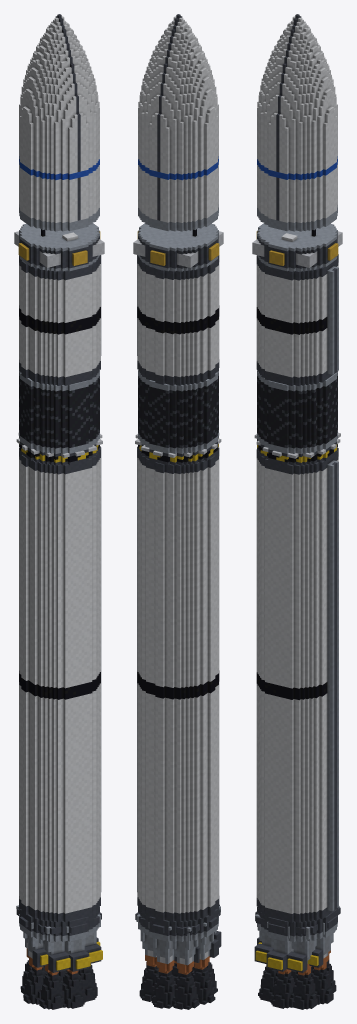
File: andorinha_assembled.glb
The picture shows the model from 3 angles, left to right: view 1: azimuth 30°, elevation 25°; view 2: azimuth 150°, elevation 25°; view 3: azimuth 330°, elevation 25°; orthographic projection.
Visible parts, largest first — view 1: andorinha_assembled; view 2: andorinha_assembled; view 3: andorinha_assembled.
Boxes of the visible parts, <box> form: andorinha_assembled: <box>14,14,104,1009</box>; andorinha_assembled: <box>133,14,223,1009</box>; andorinha_assembled: <box>252,14,342,1009</box>.
Bounding box in the file's own units: 1.38 × 17.15 × 1.43.
